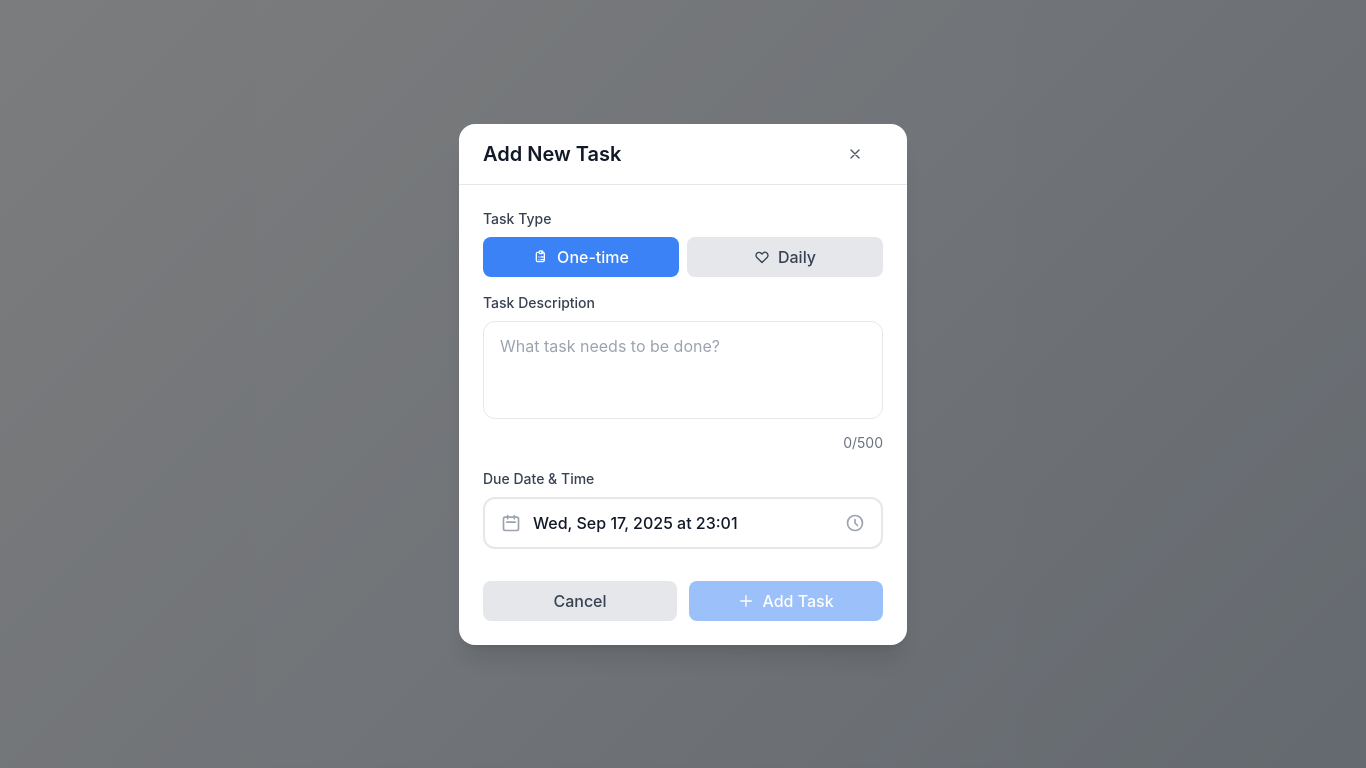
TaskModal › should show character count
The image size is (1366, 768).
Type "Test" into the text box with placeholder "What task needs to be done?" at (683, 370), box [483,320,883,418]
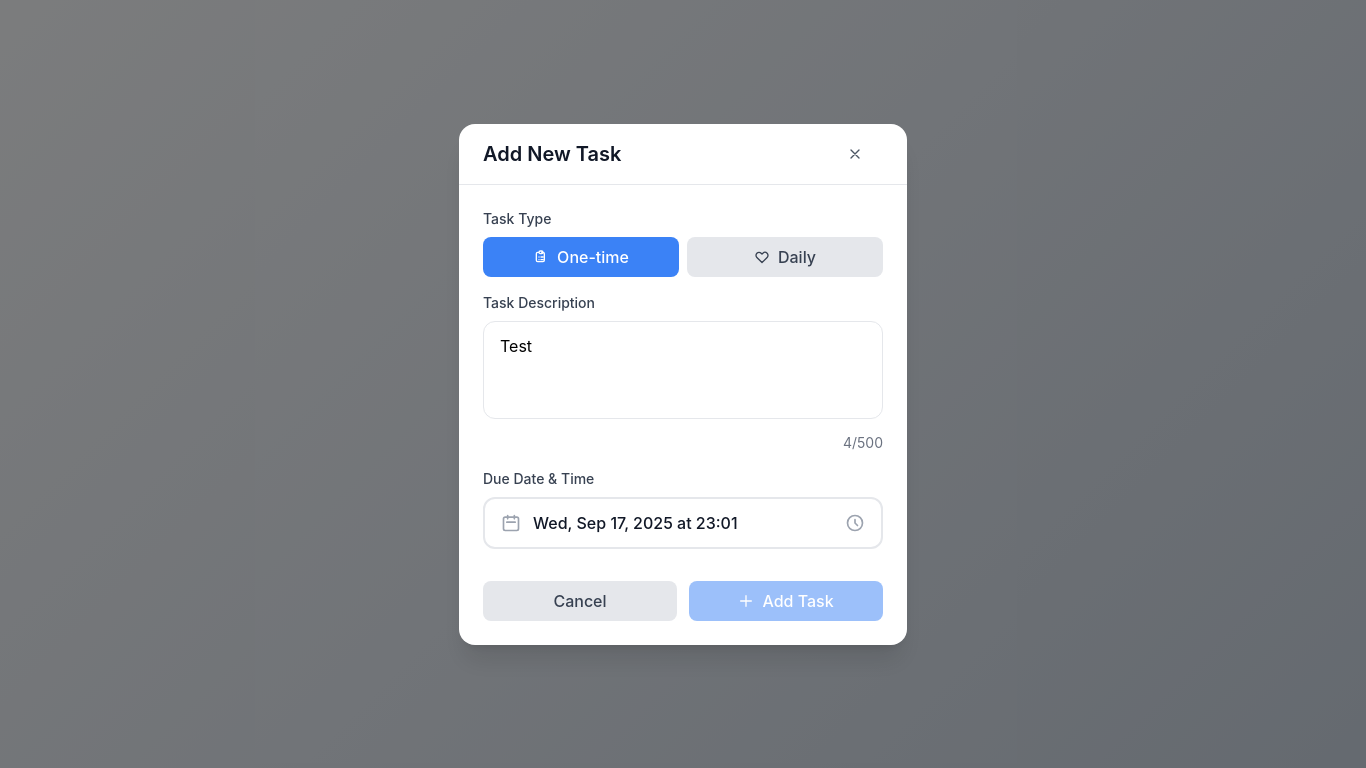
Expected: the text "4/500" is shown, [843,432,883,452]
